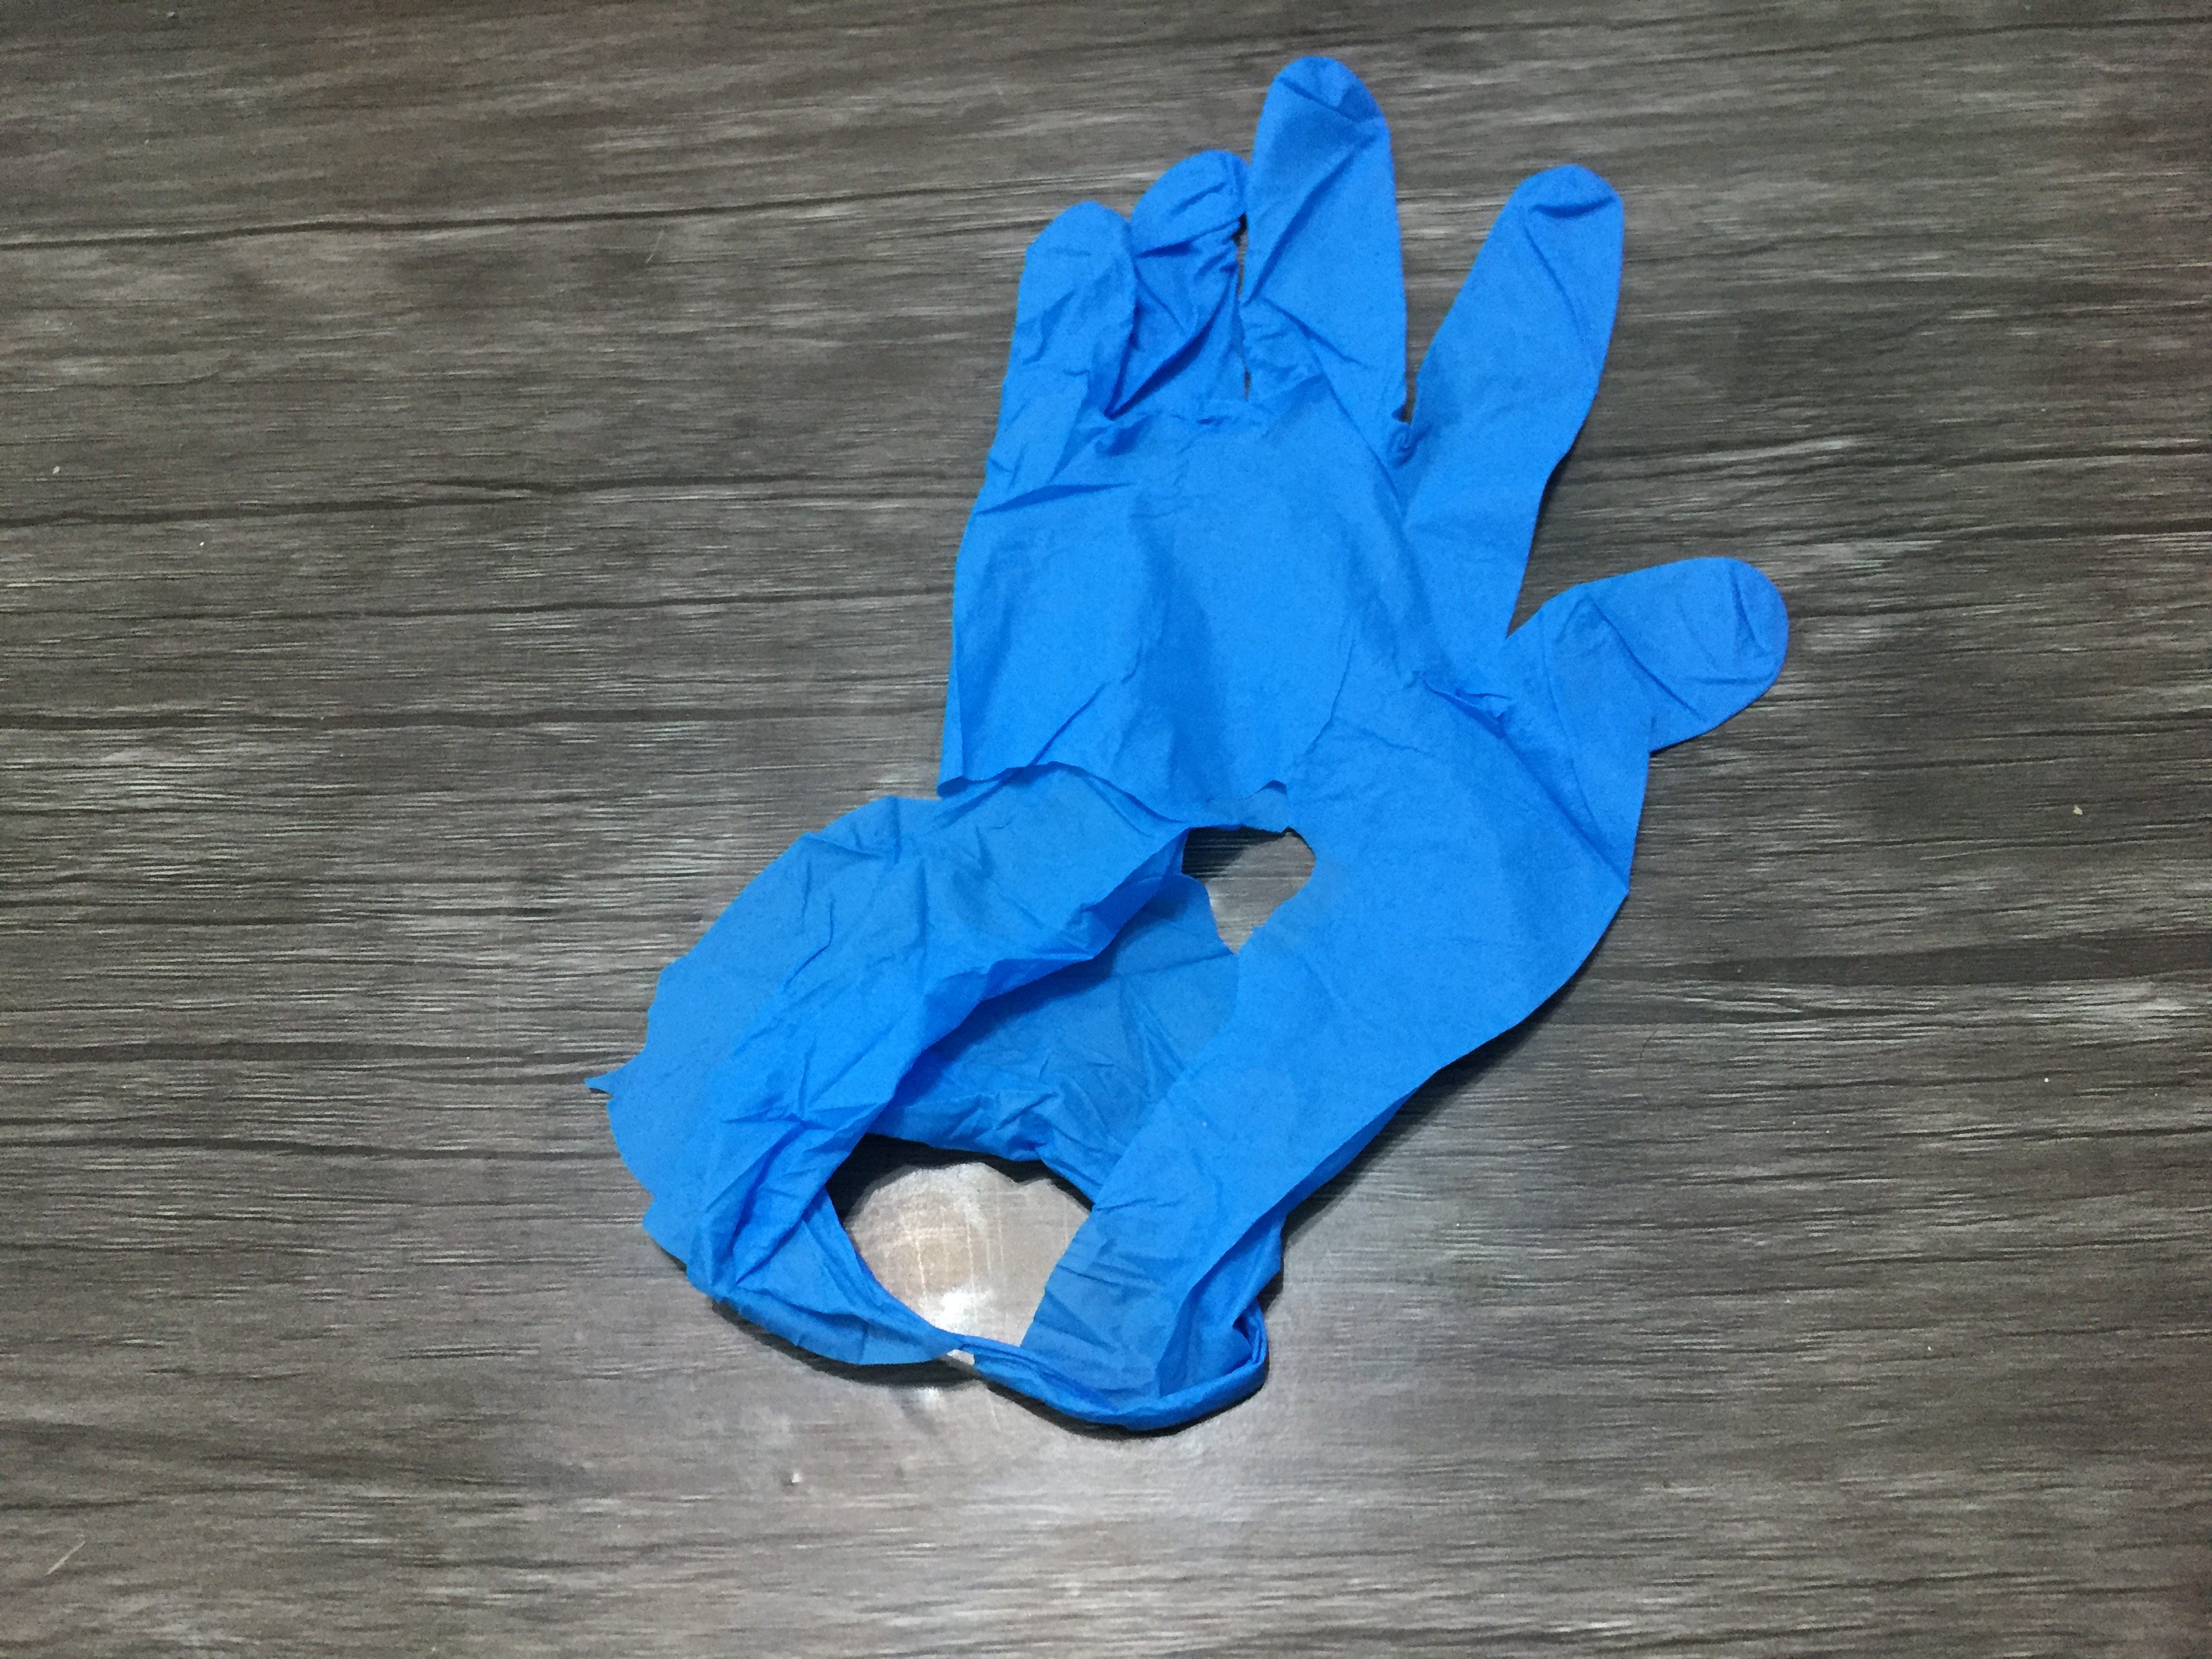defected: (613, 45, 1827, 1424)
